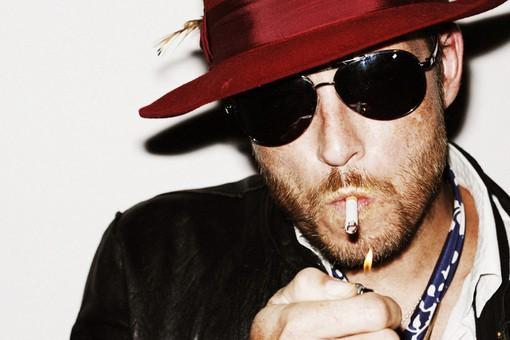smoke: (342, 193, 361, 237)
